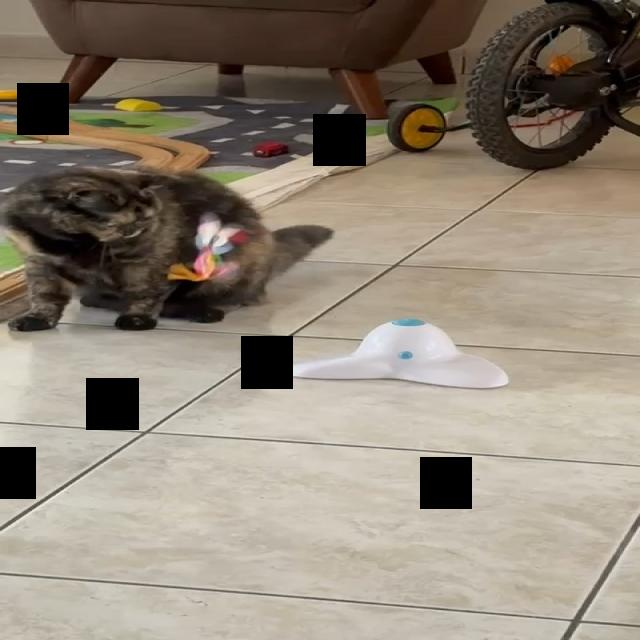authorized: (0, 164, 333, 331)
